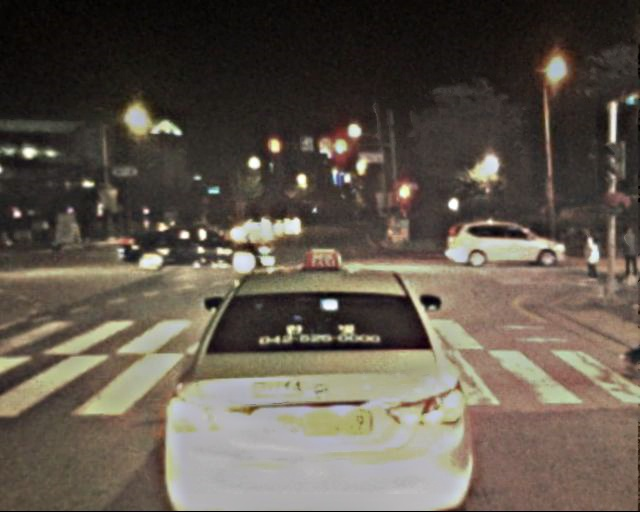person: (576, 226, 602, 289), (617, 227, 639, 285)
